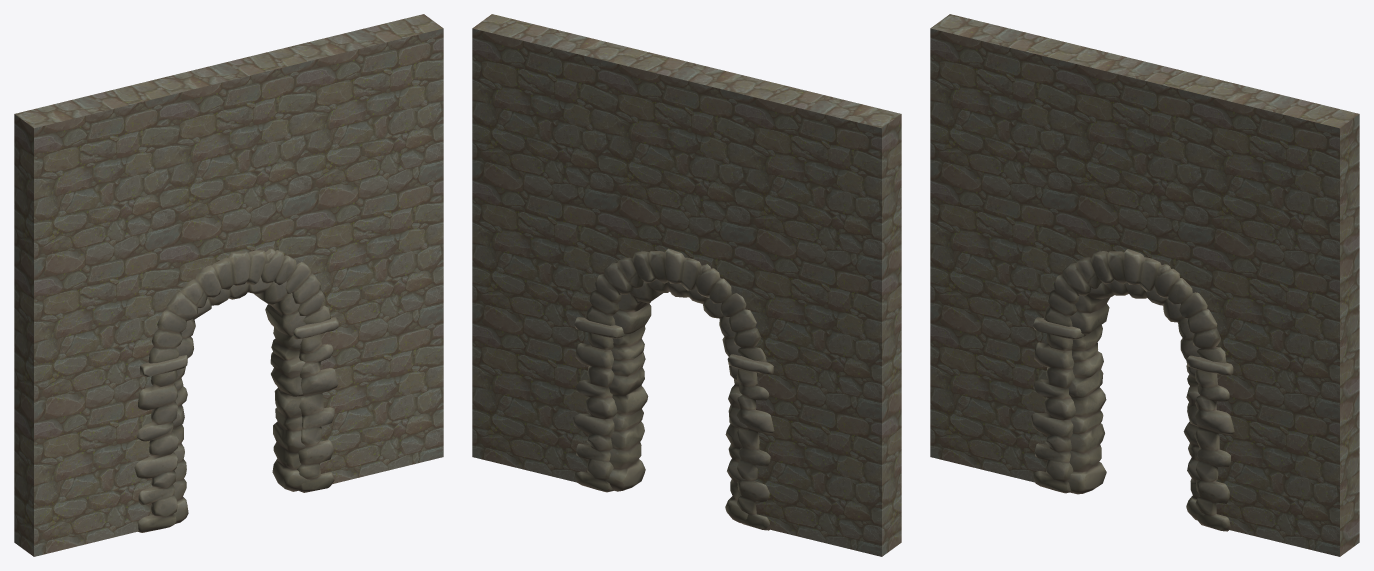
Rendered from SM_FW01_Ruins_Int_Doorway_B_6x6_01.fbx.
The picture shows the model from 3 angles, left to right: view 1: azimuth 30°, elevation 25°; view 2: azimuth 150°, elevation 25°; view 3: azimuth 330°, elevation 25°; orthographic projection.
Visible parts, largest first — view 1: SM_FW01_Ruins_Int_Doorway_B_6x6_01, SM_FW01_Ruins_Int_Doorway_B_6x6_LOD0; view 2: SM_FW01_Ruins_Int_Doorway_B_6x6_01, SM_FW01_Ruins_Int_Doorway_B_6x6_LOD0; view 3: SM_FW01_Ruins_Int_Doorway_B_6x6_01, SM_FW01_Ruins_Int_Doorway_B_6x6_LOD0.
Part boxes in pixels (x1,y1,x2,y2): SM_FW01_Ruins_Int_Doorway_B_6x6_01: (14,14,443,556); SM_FW01_Ruins_Int_Doorway_B_6x6_LOD0: (134,248,338,532); SM_FW01_Ruins_Int_Doorway_B_6x6_01: (472,14,901,556); SM_FW01_Ruins_Int_Doorway_B_6x6_LOD0: (573,248,774,530); SM_FW01_Ruins_Int_Doorway_B_6x6_01: (930,14,1359,556); SM_FW01_Ruins_Int_Doorway_B_6x6_LOD0: (1030,249,1234,531).
Size of what is drawn, in the model's own units: 6 by 6.06 by 0.7186.
